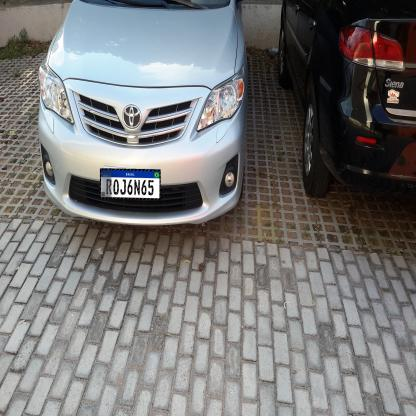PlacaM: (100, 168, 161, 200)
